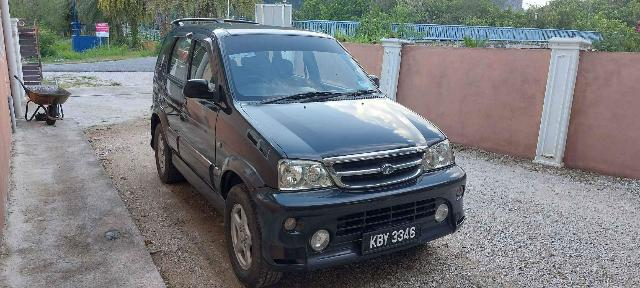License_Plate: (365, 224, 424, 252)
